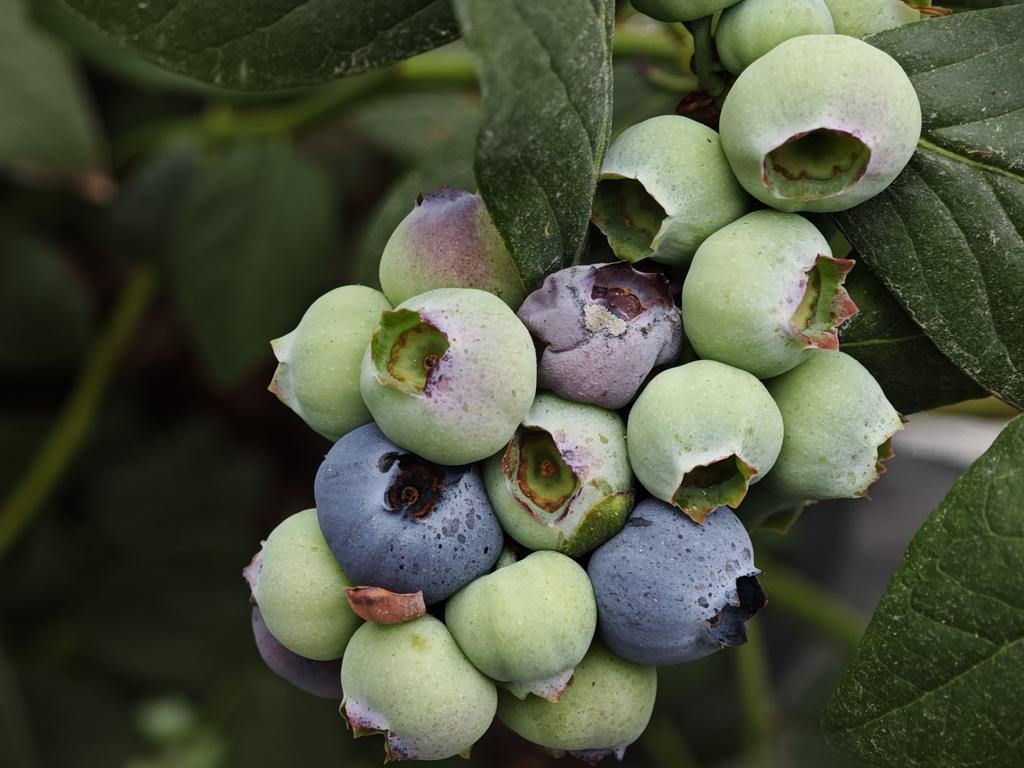RipeBlueBerry: (312, 420, 507, 605), (590, 499, 763, 670)
UnripeBlueBerry: (715, 30, 923, 216), (359, 283, 540, 468), (679, 208, 848, 382), (627, 359, 786, 511)
